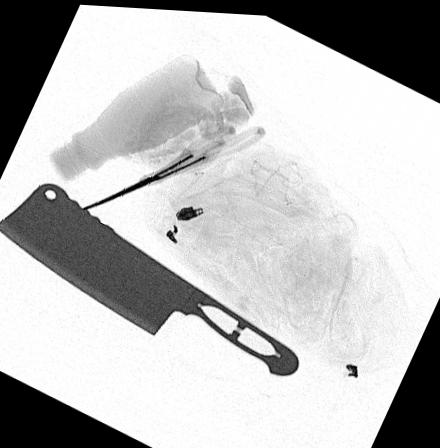Knife: (0, 182, 300, 371)
Scissors: (81, 120, 264, 209)
